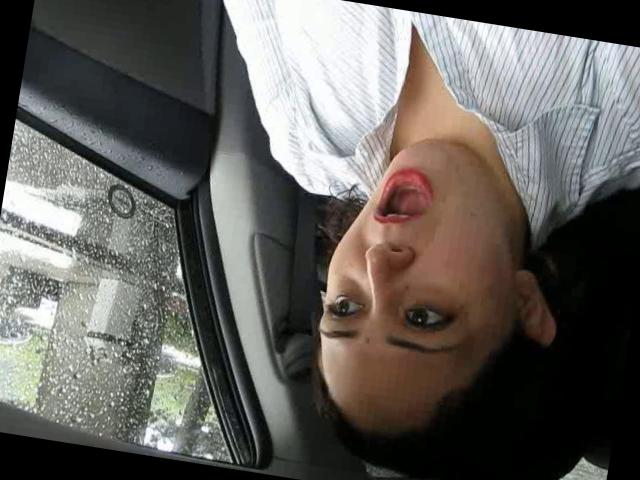eye_open: (391, 290, 466, 346), (322, 287, 369, 326)
face: (304, 120, 522, 404)
mouth_open: (366, 161, 441, 238)
